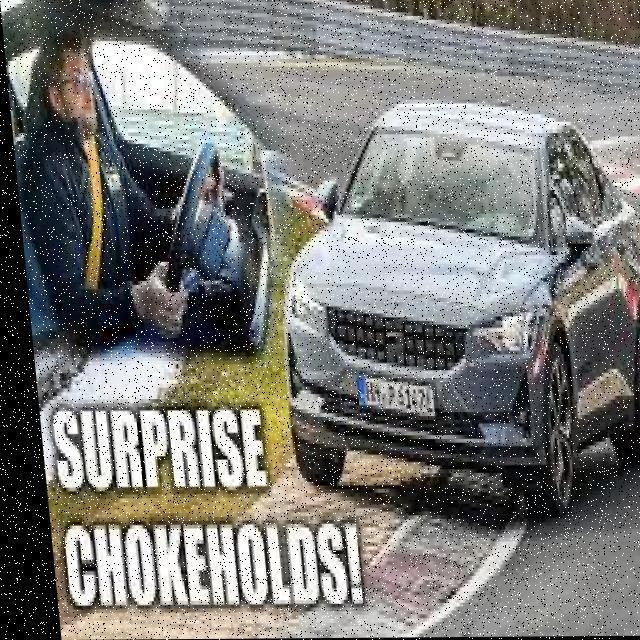seatbelt: (26, 110, 144, 344)
